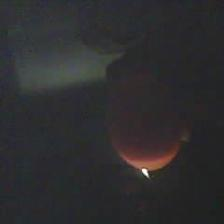fertile: (107, 74, 184, 170)
